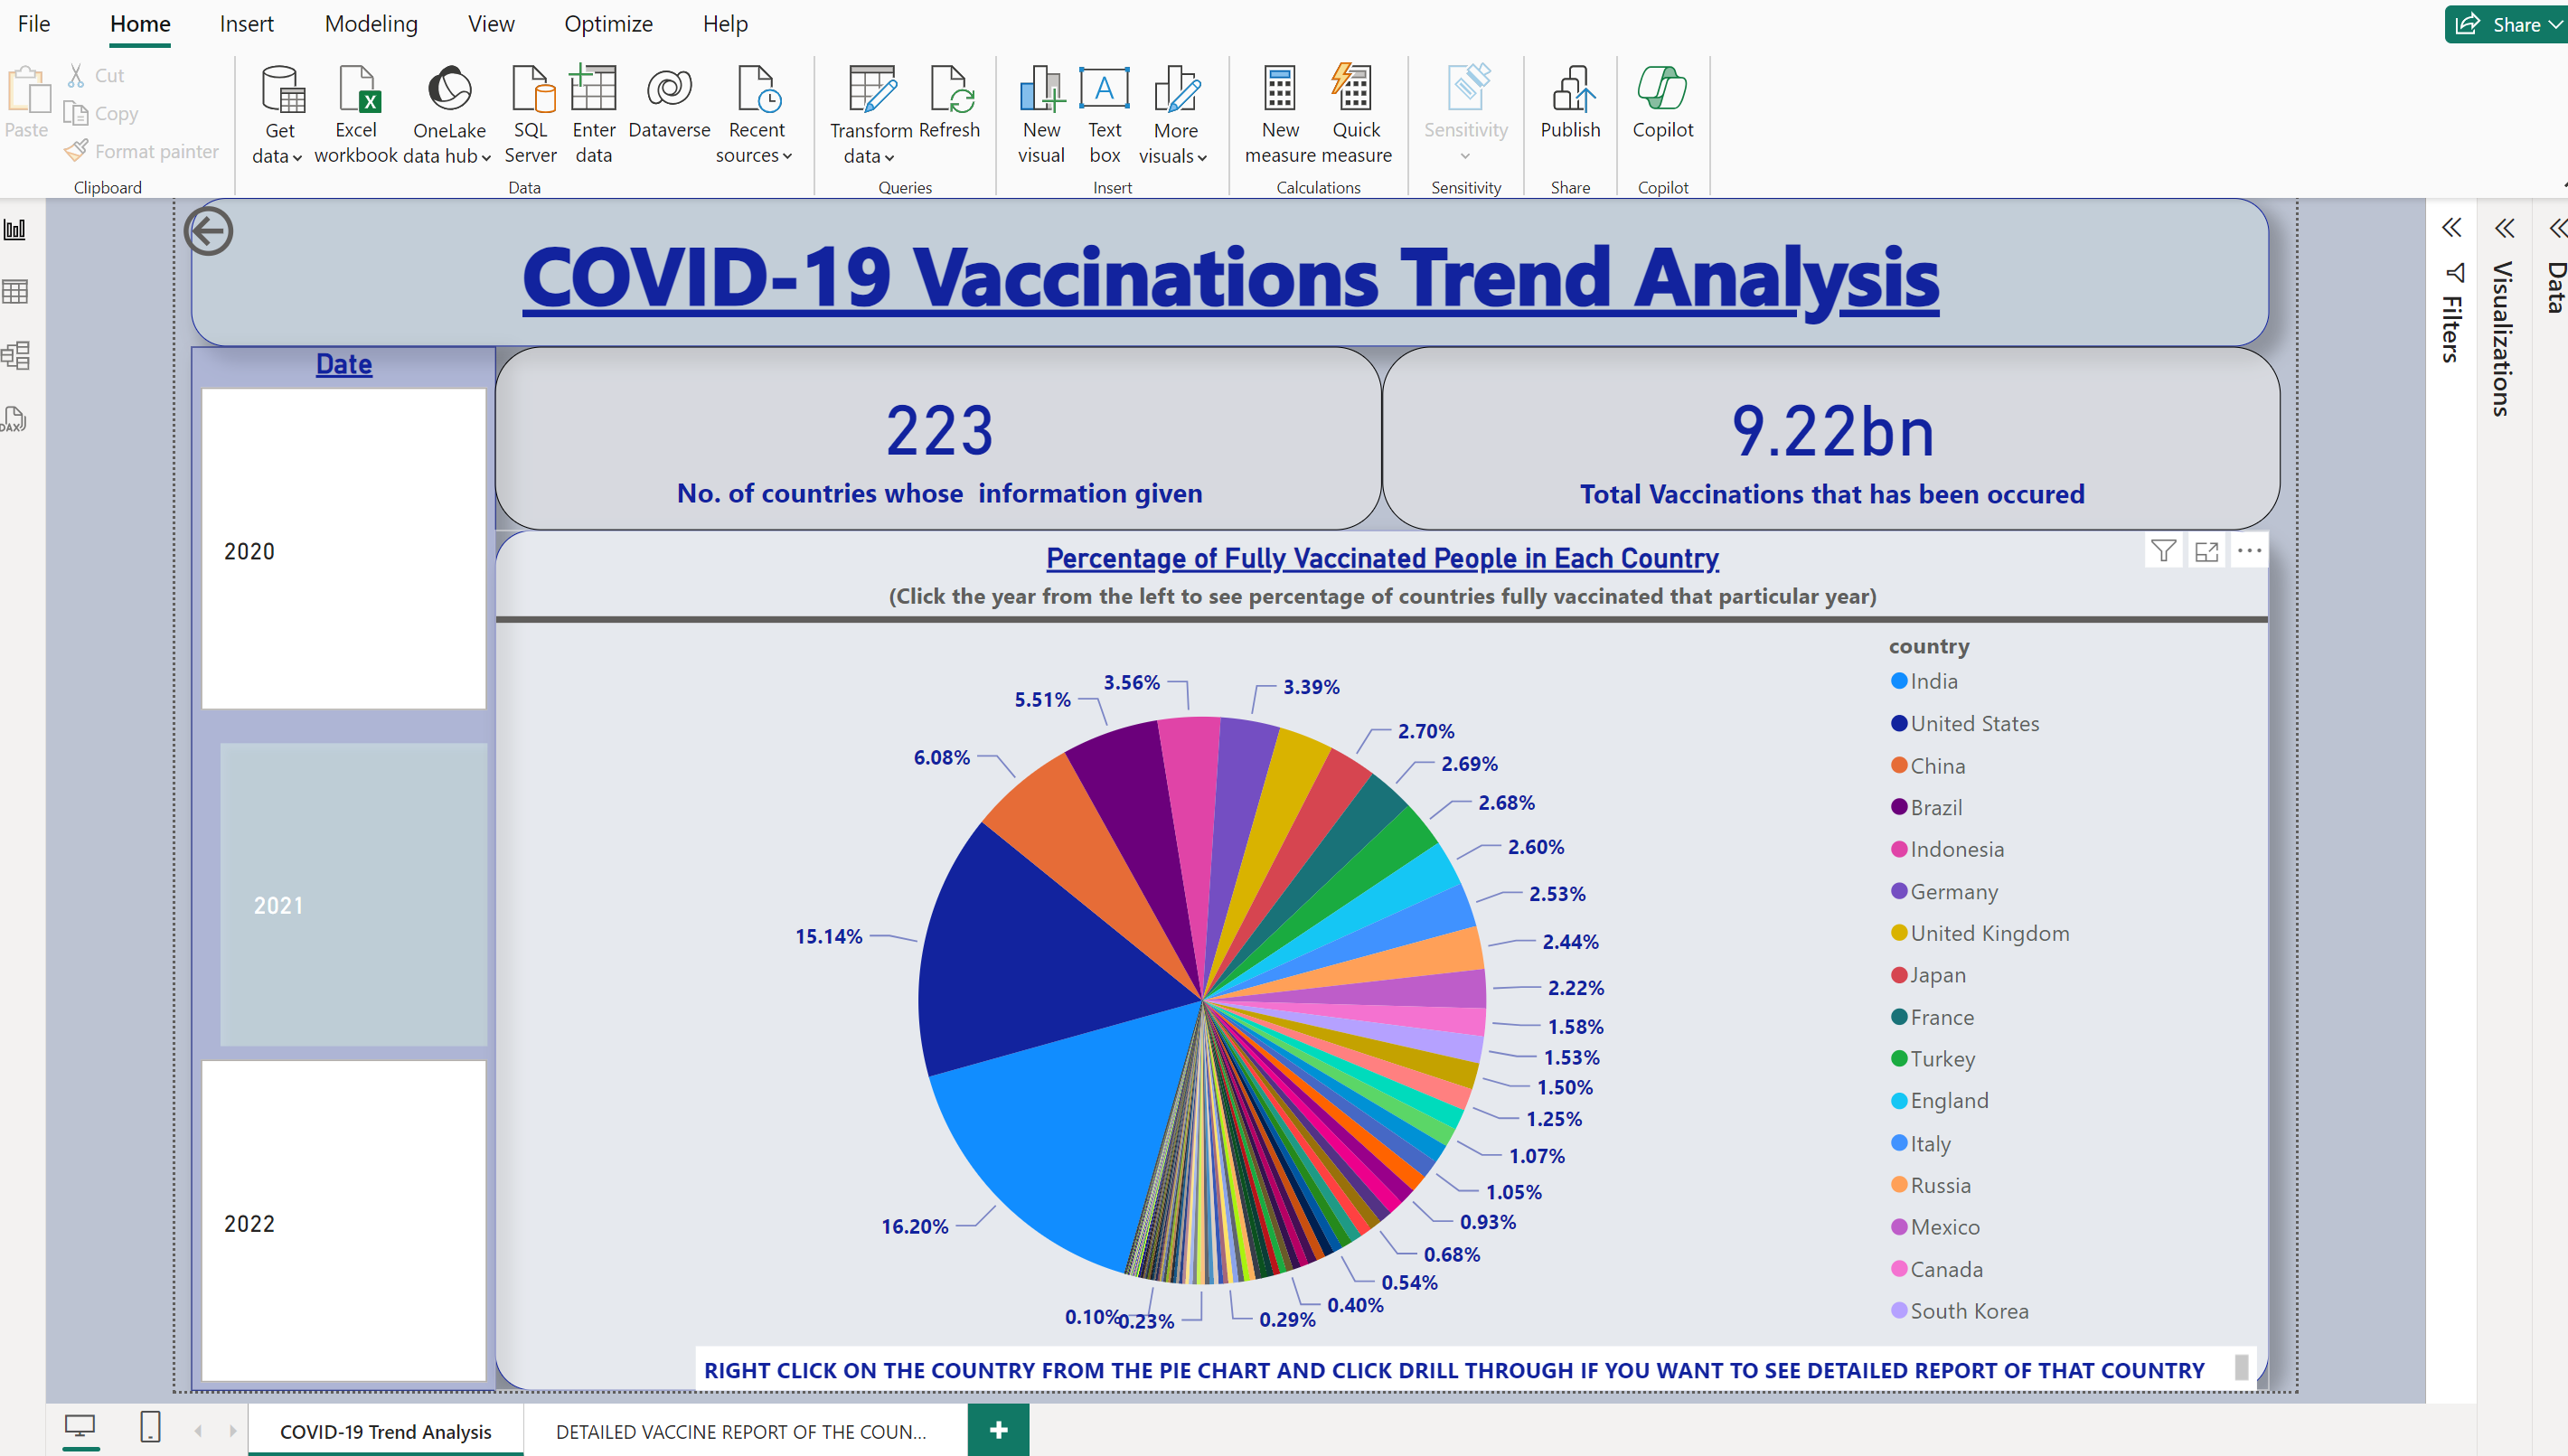

Layout of this report page (visuals, bound fields, positions):
{"tool":"powerbi","page":{"name":"HOME PAGE","canvas":[1280,720],"ordinal":0},"visuals":[{"type":"textbox","box":[9.8,0,1254.3,89.5],"z":0},{"type":"advancedSlicerVisual","title":"Date","fields":{"Values":["country_vaccinations.date.Variation.Date Hierarchy.Year"]},"box":[9.5,89.8,183.8,630.5],"z":1000},{"type":"pieChart","title":"Percentage of Fully Vaccinated People in Each Country","fields":{"Y":["Sum(country_vaccinations.people_fully_vaccinated)"],"Category":["country_vaccinations.country"]},"box":[193.3,200.7,1070.9,519.6],"z":2000},{"type":"actionButton","box":[0,0,100,40],"z":3000},{"type":"textbox","box":[314.1,693.1,942.3,26.7],"z":4000},{"type":"card","fields":{"Values":["Count(country_vaccinations.country)"]},"box":[193.3,89.8,535.4,110.9],"z":5000},{"type":"card","fields":{"Values":["Sum(country_vaccinations.daily_vaccinations)"]},"box":[728.5,89.7,542.3,110.7],"z":6000}]}

Visuals, with their boxes on the page's 1280x720 design canvas (x1, y1, x2, y2). These are canvas units, not pixel positions in the 2568x1456 screenshot, which may show the page scaled, cropped or inside an application window:
textbox: 10:0:1264:90
"Date" advancedSlicerVisual: 10:90:193:720
"Percentage of Fully Vaccinated People in Each Country" pieChart: 193:201:1264:720
actionButton: 0:0:100:40
textbox: 314:693:1256:720
card - Count(country_vaccinations.country): 193:90:729:201
card - Sum(country_vaccinations.daily_vaccinations): 728:90:1271:200
